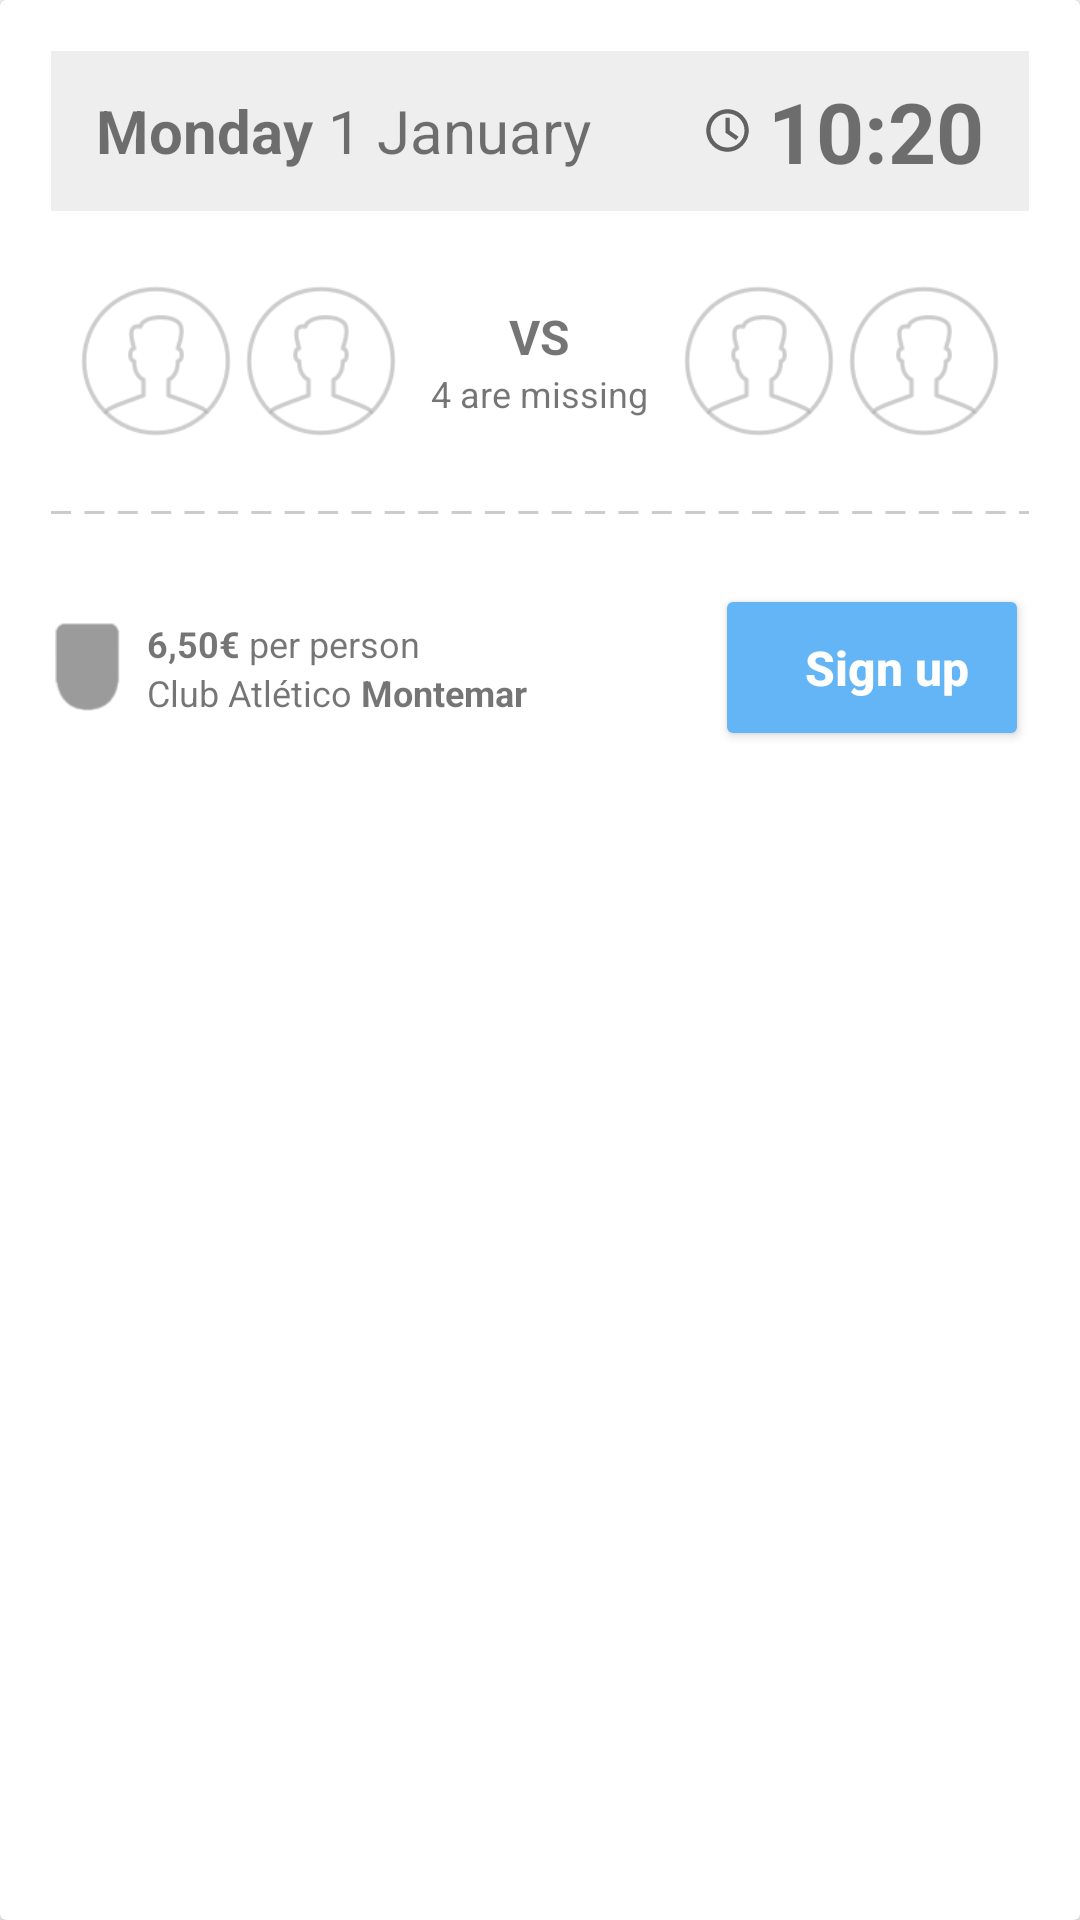

Named icons in this screenshot (1080*1920) and their centers, point (x, y):
Clock: point (727, 130)
Player profile picture: point (156, 361), point (321, 361), point (759, 361), point (924, 361)
